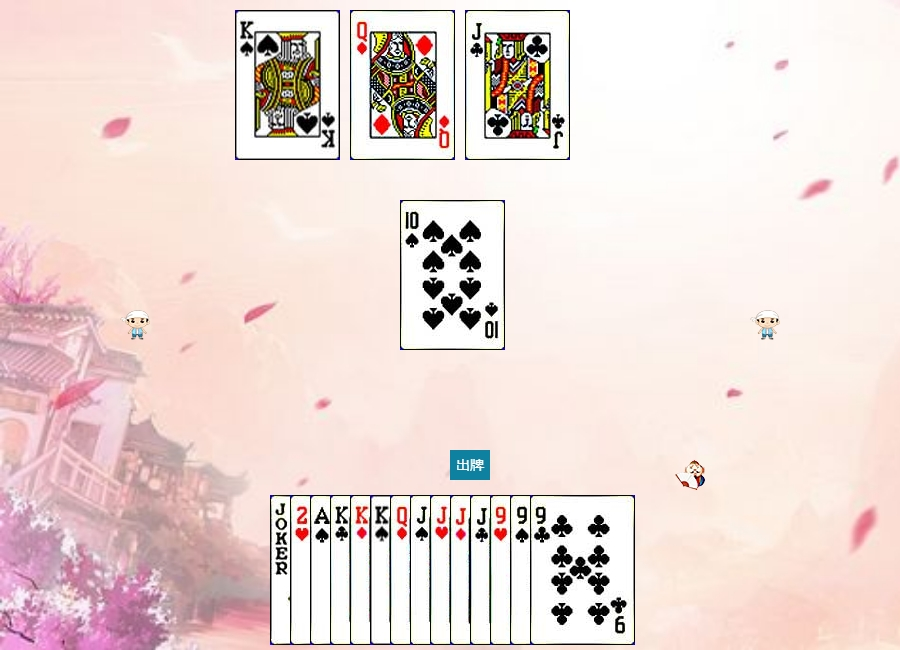10~4: (400, 200, 505, 350)
11~1: (450, 495, 555, 645)
11~2: (465, 10, 570, 160), (470, 495, 575, 645)
11~3: (430, 495, 535, 645)
11~4: (410, 495, 515, 645)
12~1: (350, 10, 455, 160), (390, 495, 495, 645)
13~1: (350, 495, 455, 645)
13~2: (330, 495, 435, 645)
13~4: (235, 10, 340, 160), (370, 495, 475, 645)
14~4: (310, 495, 415, 645)
15~3: (290, 495, 395, 645)
17~3: (270, 495, 375, 645)
9~2: (530, 495, 635, 645)
9~3: (490, 495, 595, 645)
9~4: (510, 495, 615, 645)
